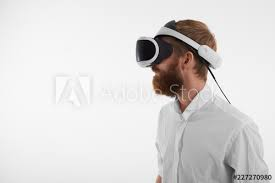oculus: (134, 25, 223, 74)
